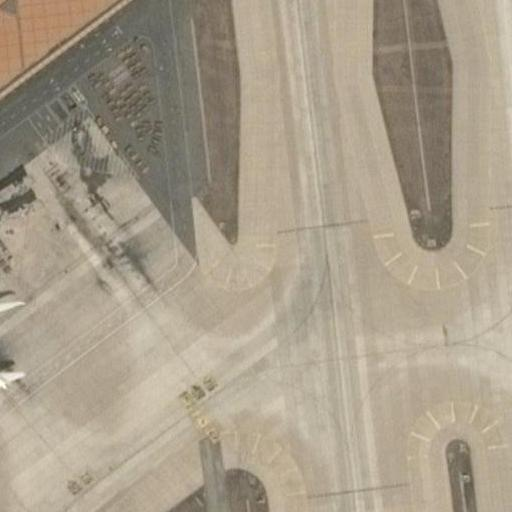Aircraft: (0, 256, 27, 416)
